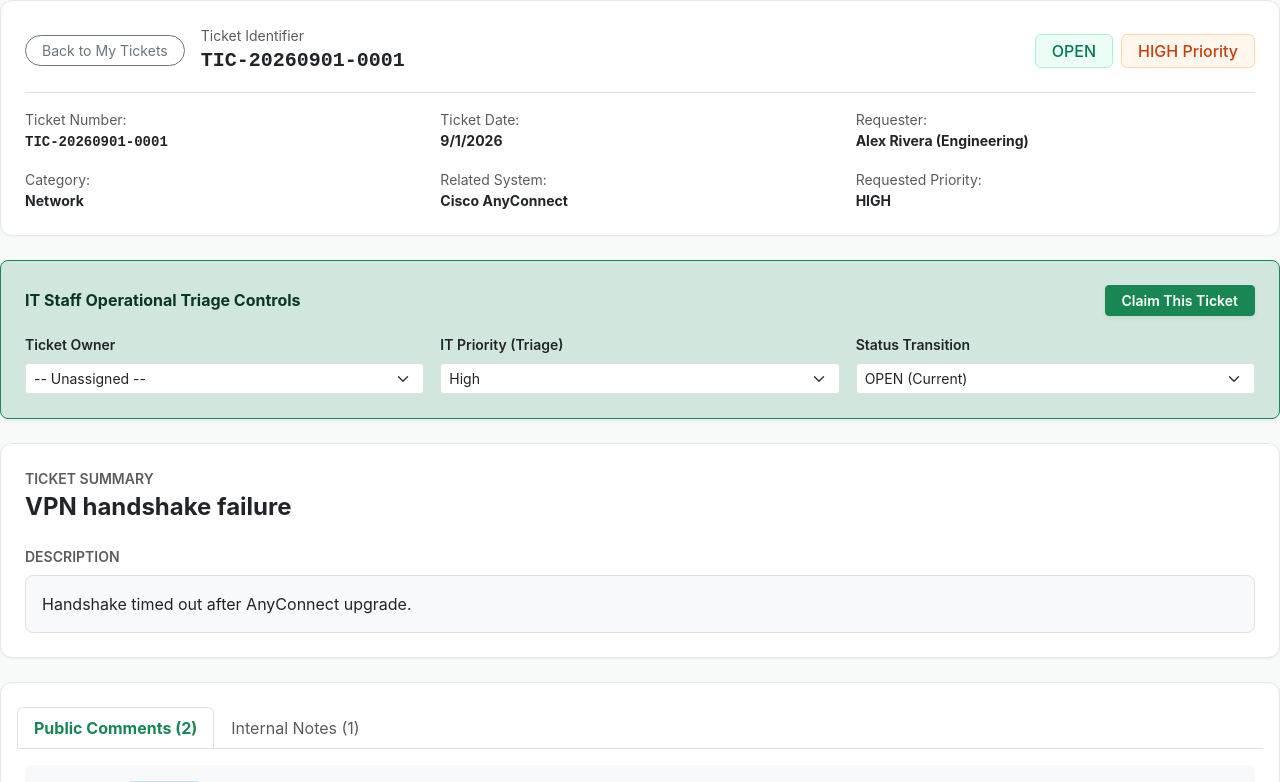
Test: Lab 3 — Ticket Communications: Comments & Notes UI (Issue #7) › renders distinct tabs for Public Comments and Internal Notes for IT Staff (UI-05)
The width and height of the screenshot is (1280, 782).
expect the button with test id "tab-public-comments" is shown: met, box [17,707,214,748]
Note: Switch to Internal Notes
Click the button with test id "tab-internal-notes" at (296, 728), box [214,707,377,749]
(page scrolled)
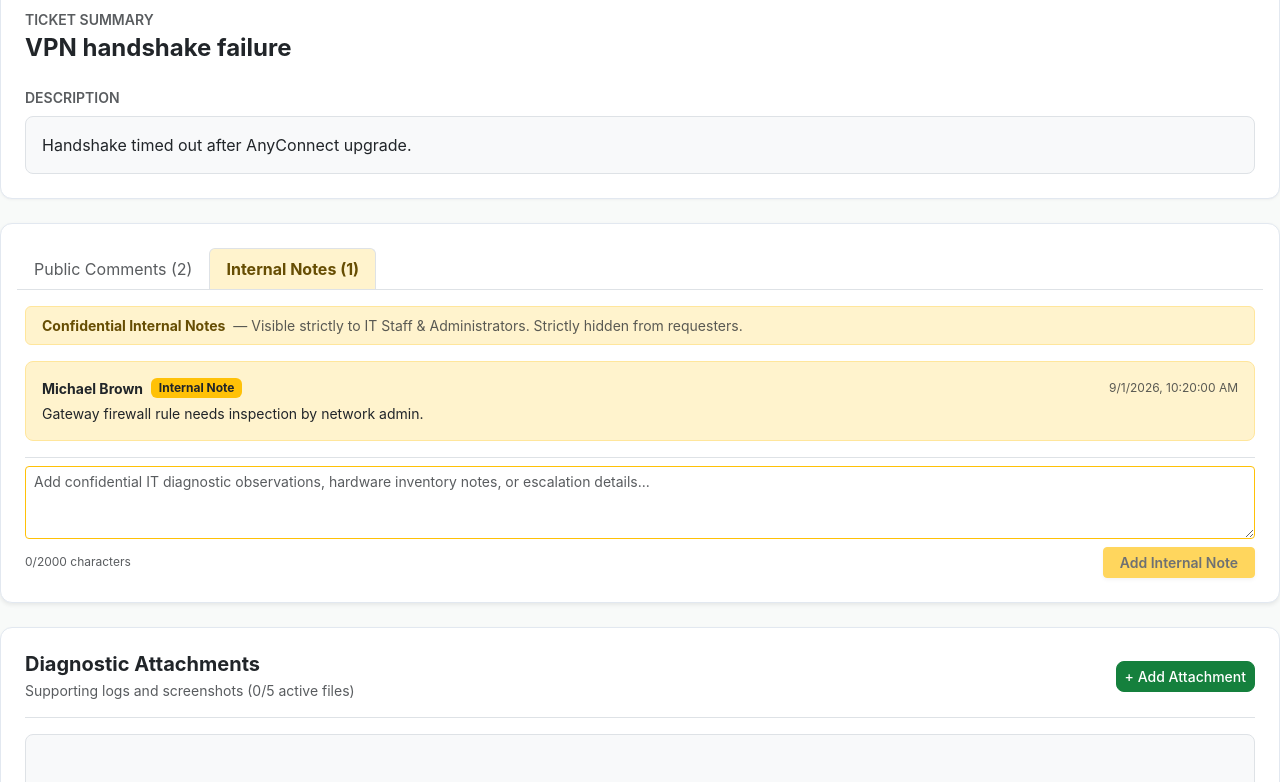
expect the element with test id "notes-panel" is shown: met, box [25,306,1255,578]
expect the element with test id "note-item-1" shows "Gateway firewall rule needs inspection": met, box [42,405,424,422]
